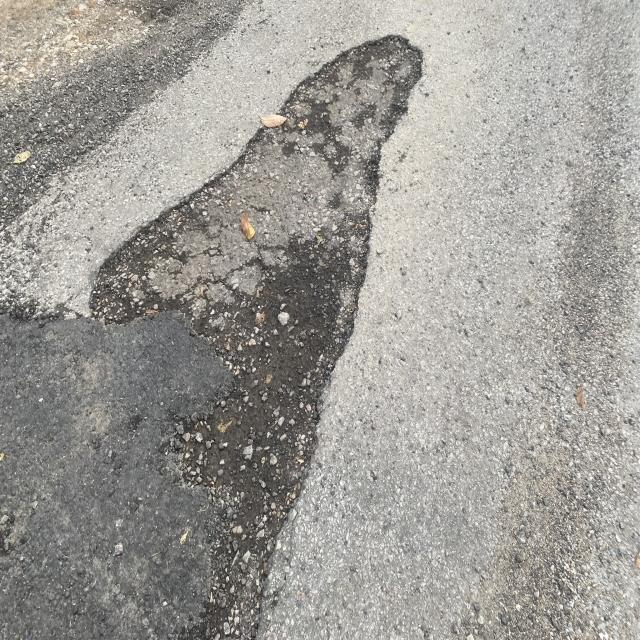pothole: (92, 10, 444, 570)
